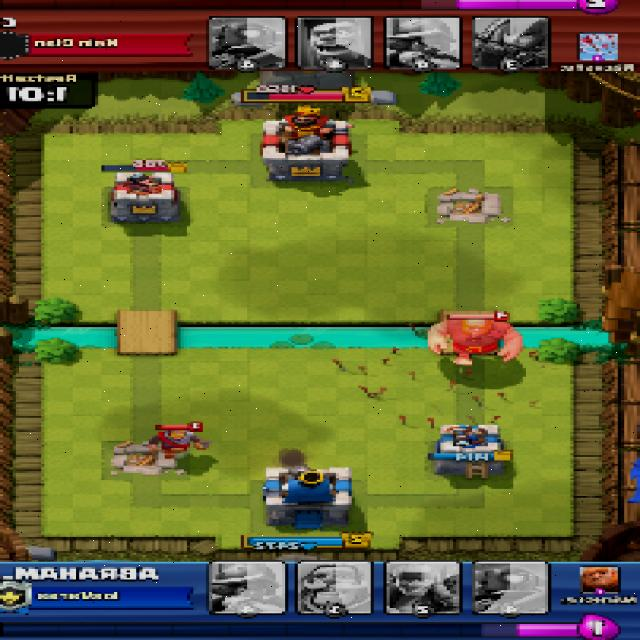Enemy-Giant: (429, 314, 522, 366)
Enemy-Knight: (145, 428, 212, 458)
Player-Arrow: (330, 329, 538, 430)
